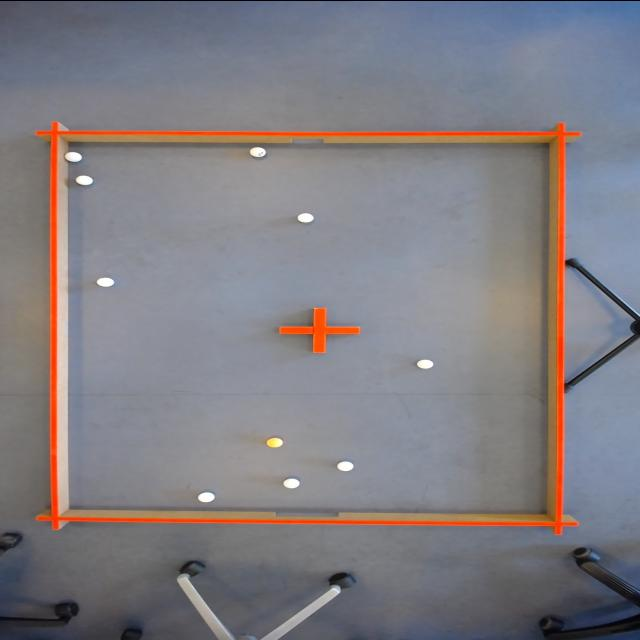cross: (277, 306, 362, 355)
orange_ball: (264, 436, 288, 448)
white_ball: (334, 458, 358, 472), (292, 210, 316, 224), (62, 148, 86, 162), (95, 274, 118, 288), (280, 477, 303, 489), (415, 358, 438, 370), (196, 491, 219, 503), (248, 145, 270, 157), (74, 173, 96, 184)
